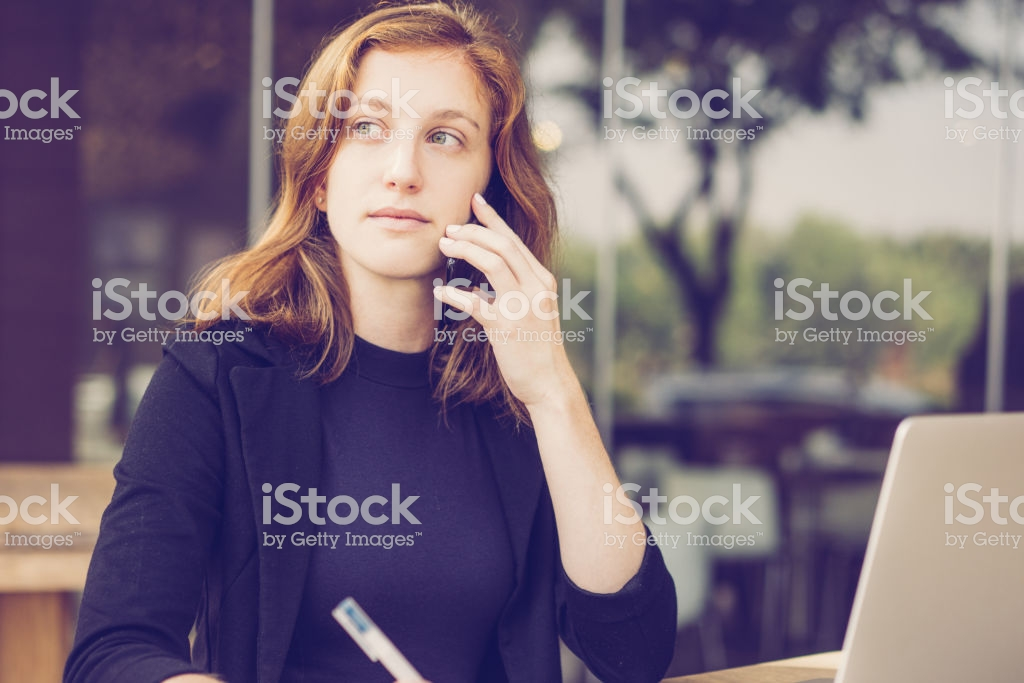phone: (434, 177, 561, 319)
talk: (328, 89, 576, 398)
